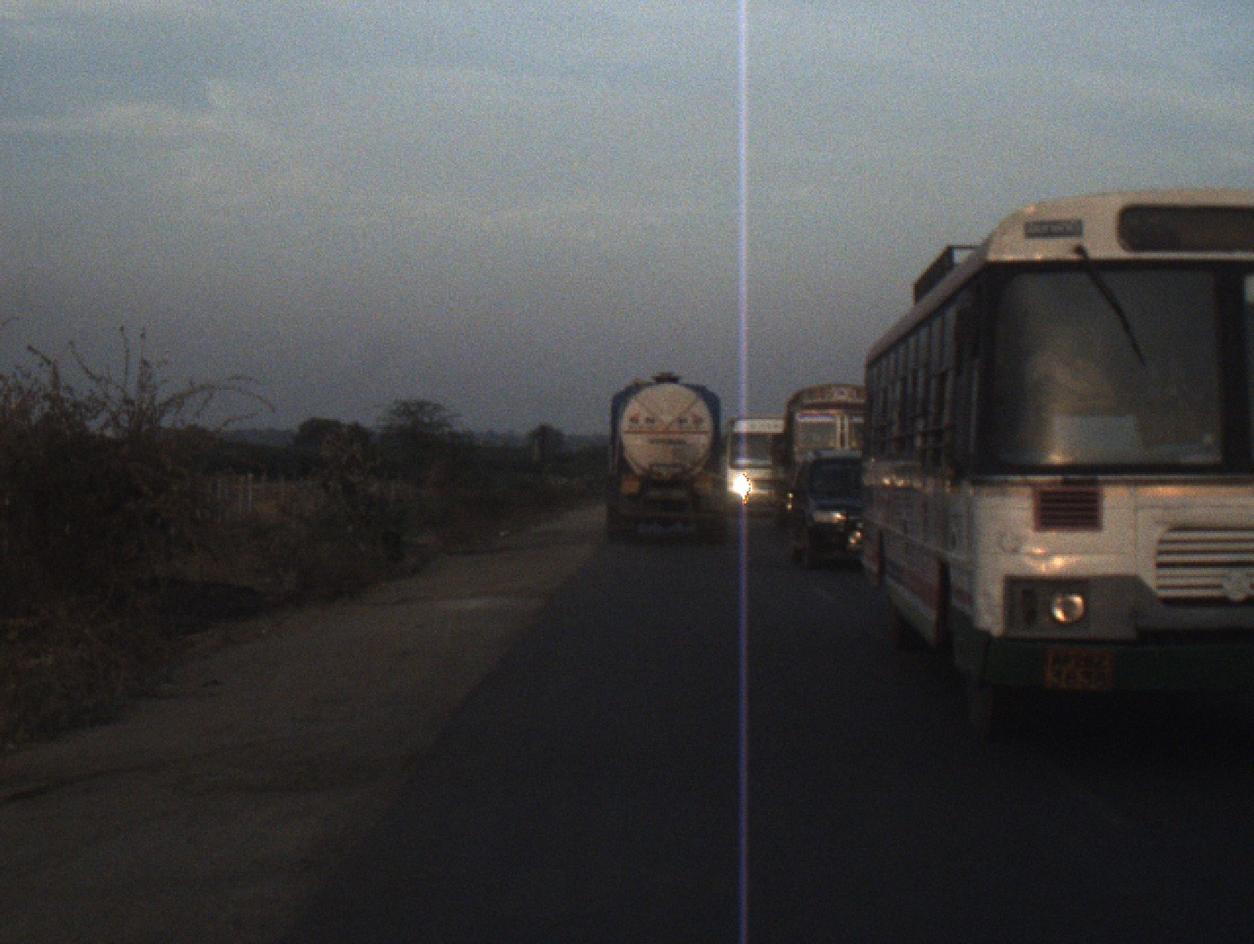bus: (864, 186, 1254, 747), (721, 407, 795, 515)
car: (778, 444, 875, 574)
truck: (601, 363, 730, 552), (764, 383, 869, 537)
